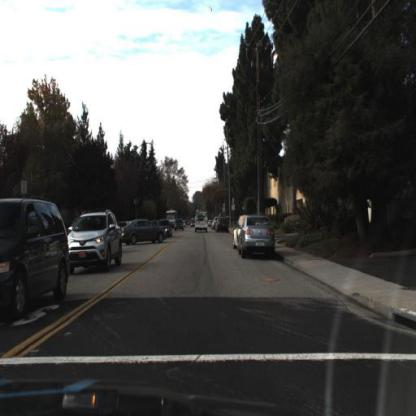car: (1, 199, 71, 315), (67, 207, 123, 271), (117, 215, 166, 248), (239, 215, 274, 257), (122, 218, 171, 247), (191, 206, 212, 237), (215, 215, 232, 236)
truck: (192, 211, 212, 240), (165, 208, 179, 225)
